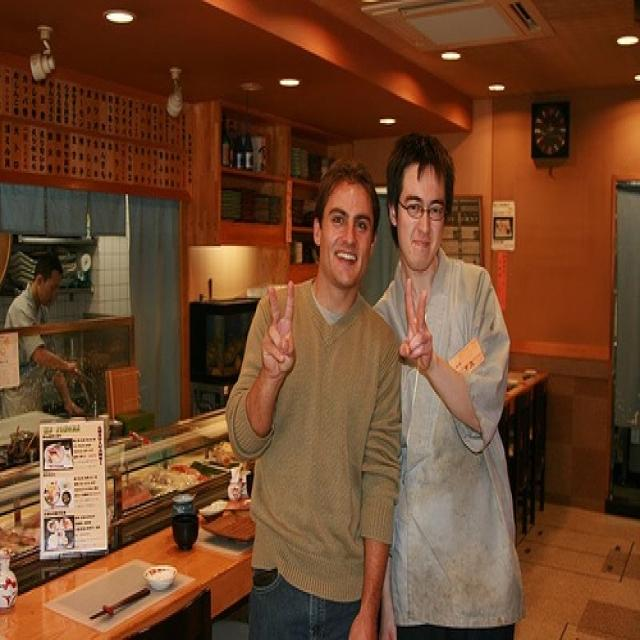person: (228, 164, 404, 639), (374, 136, 524, 639), (6, 249, 79, 418)
